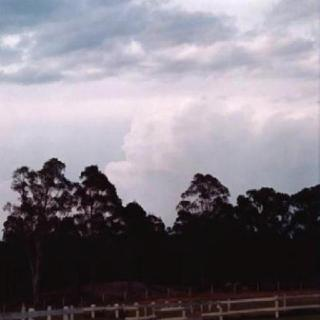Cirrostratus: (0, 0, 320, 196)
